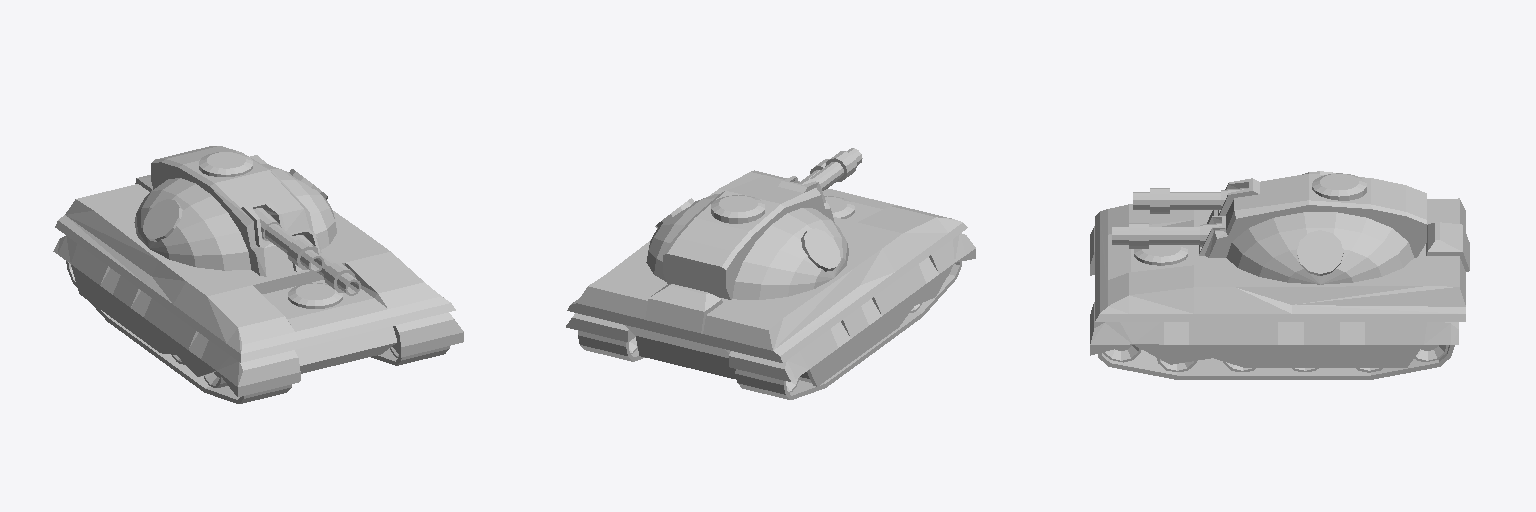
File: Demolisher.obj
3 views of the same model, side by side, from view 1: azimuth 30°, elevation 25°; view 2: azimuth 150°, elevation 25°; view 3: azimuth 270°, elevation 25° (orthographic).
Bounding box in the file's own units: 32.06 × 20 × 46.59.